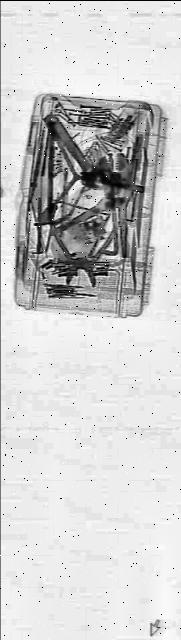Pliers: (47, 203, 117, 295)
